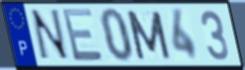0: (97, 7, 136, 64)
3: (200, 8, 230, 62)
4: (171, 6, 200, 65)
E: (60, 7, 105, 64)
M: (124, 9, 173, 61)
N: (28, 8, 72, 63)
